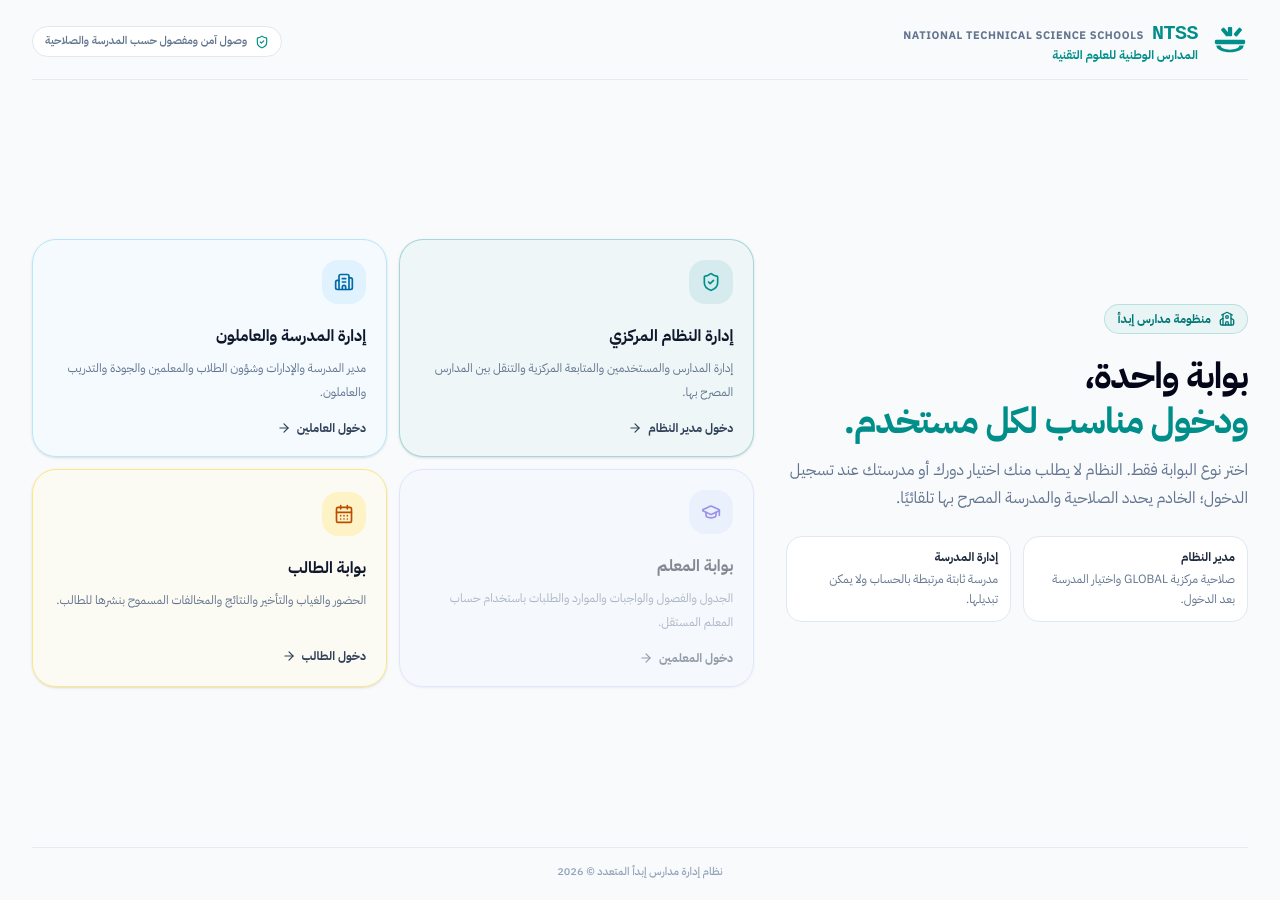
it: PHASE 3B — FRONTEND EMAIL LOGIN + REMOVE LOGIN SCHOOL AUTHORITY › 3. LoginView shows email/password only after choosing an administrative portal
Expected: the button with test id "entry-staff" is shown, [32,239,387,457]
Expected: the button with test id "entry-teacher" is shown, [399,469,754,687]
Click the button with test id "entry-system": (711, 282) [399,239,754,457]
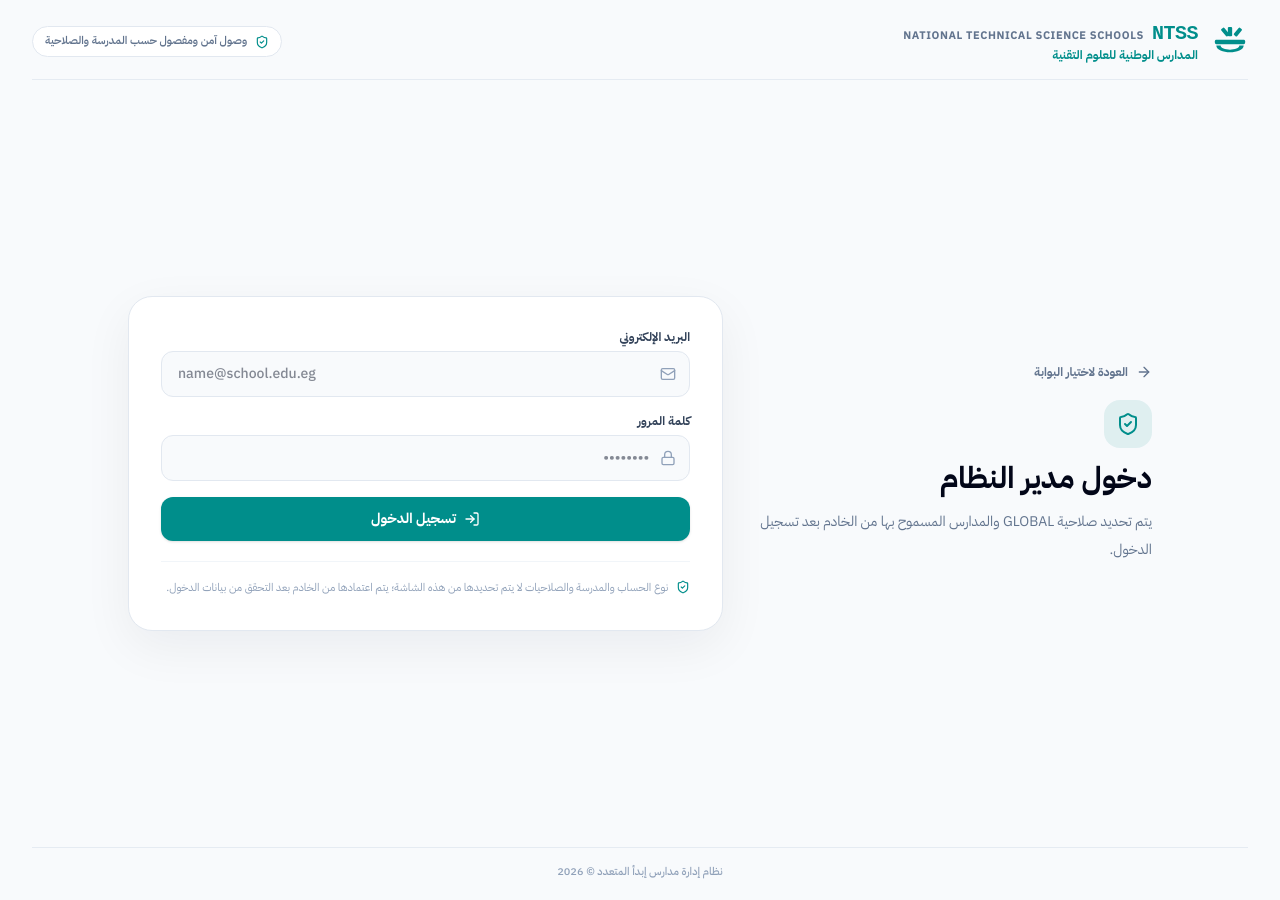
Expected: the text "دخول مدير النظام" is shown, [940,455,1152,500]
Expected: the field with id "input-email" is shown, [161,351,690,397]
Expected: the password field with id "input-password" is shown, [161,435,690,481]
